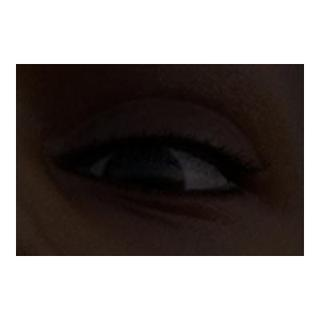pupil: (122, 165, 161, 204)
